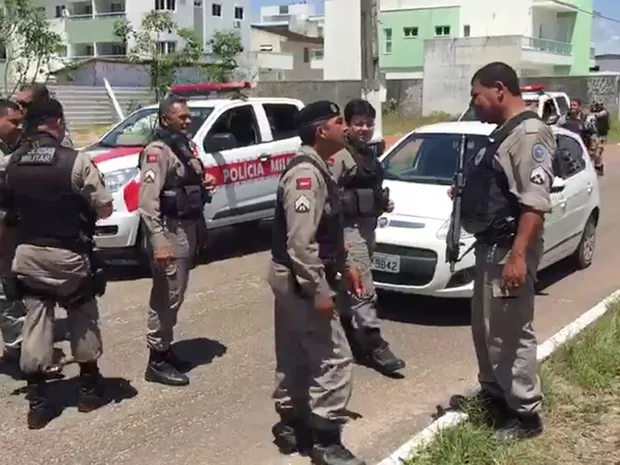Humano: (461, 56, 552, 431), (14, 99, 119, 420), (271, 104, 361, 459), (137, 88, 214, 387), (343, 102, 404, 377), (590, 98, 611, 185), (1, 95, 18, 187), (565, 93, 587, 144)
